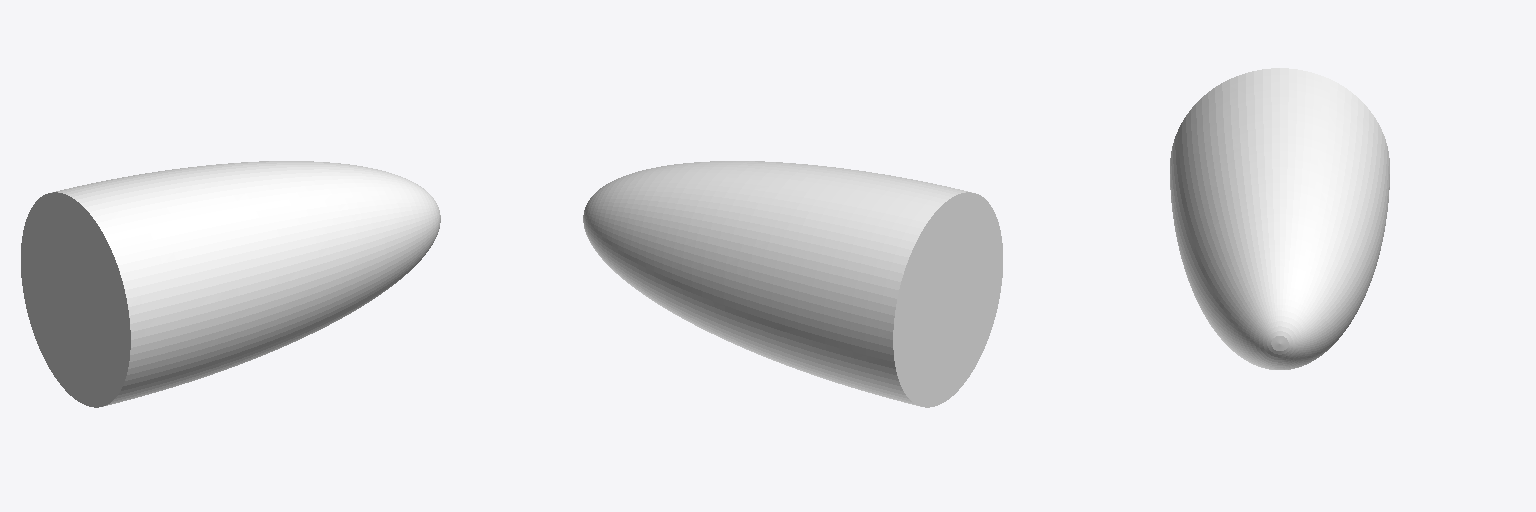
File: bala.obj
The picture shows the model from 3 angles: view 1: azimuth 30°, elevation 25°; view 2: azimuth 150°, elevation 25°; view 3: azimuth 270°, elevation 25°; orthographic projection.
Visible parts, largest first — view 1: Object.1; view 2: Object.1; view 3: Object.1.
Part boxes in pixels (x1,y1,x2,y2): Object.1: (21, 161, 440, 407); Object.1: (583, 161, 1002, 407); Object.1: (1170, 68, 1389, 369).
Size of the model in its own units: 55.97 by 29.63 by 29.63.